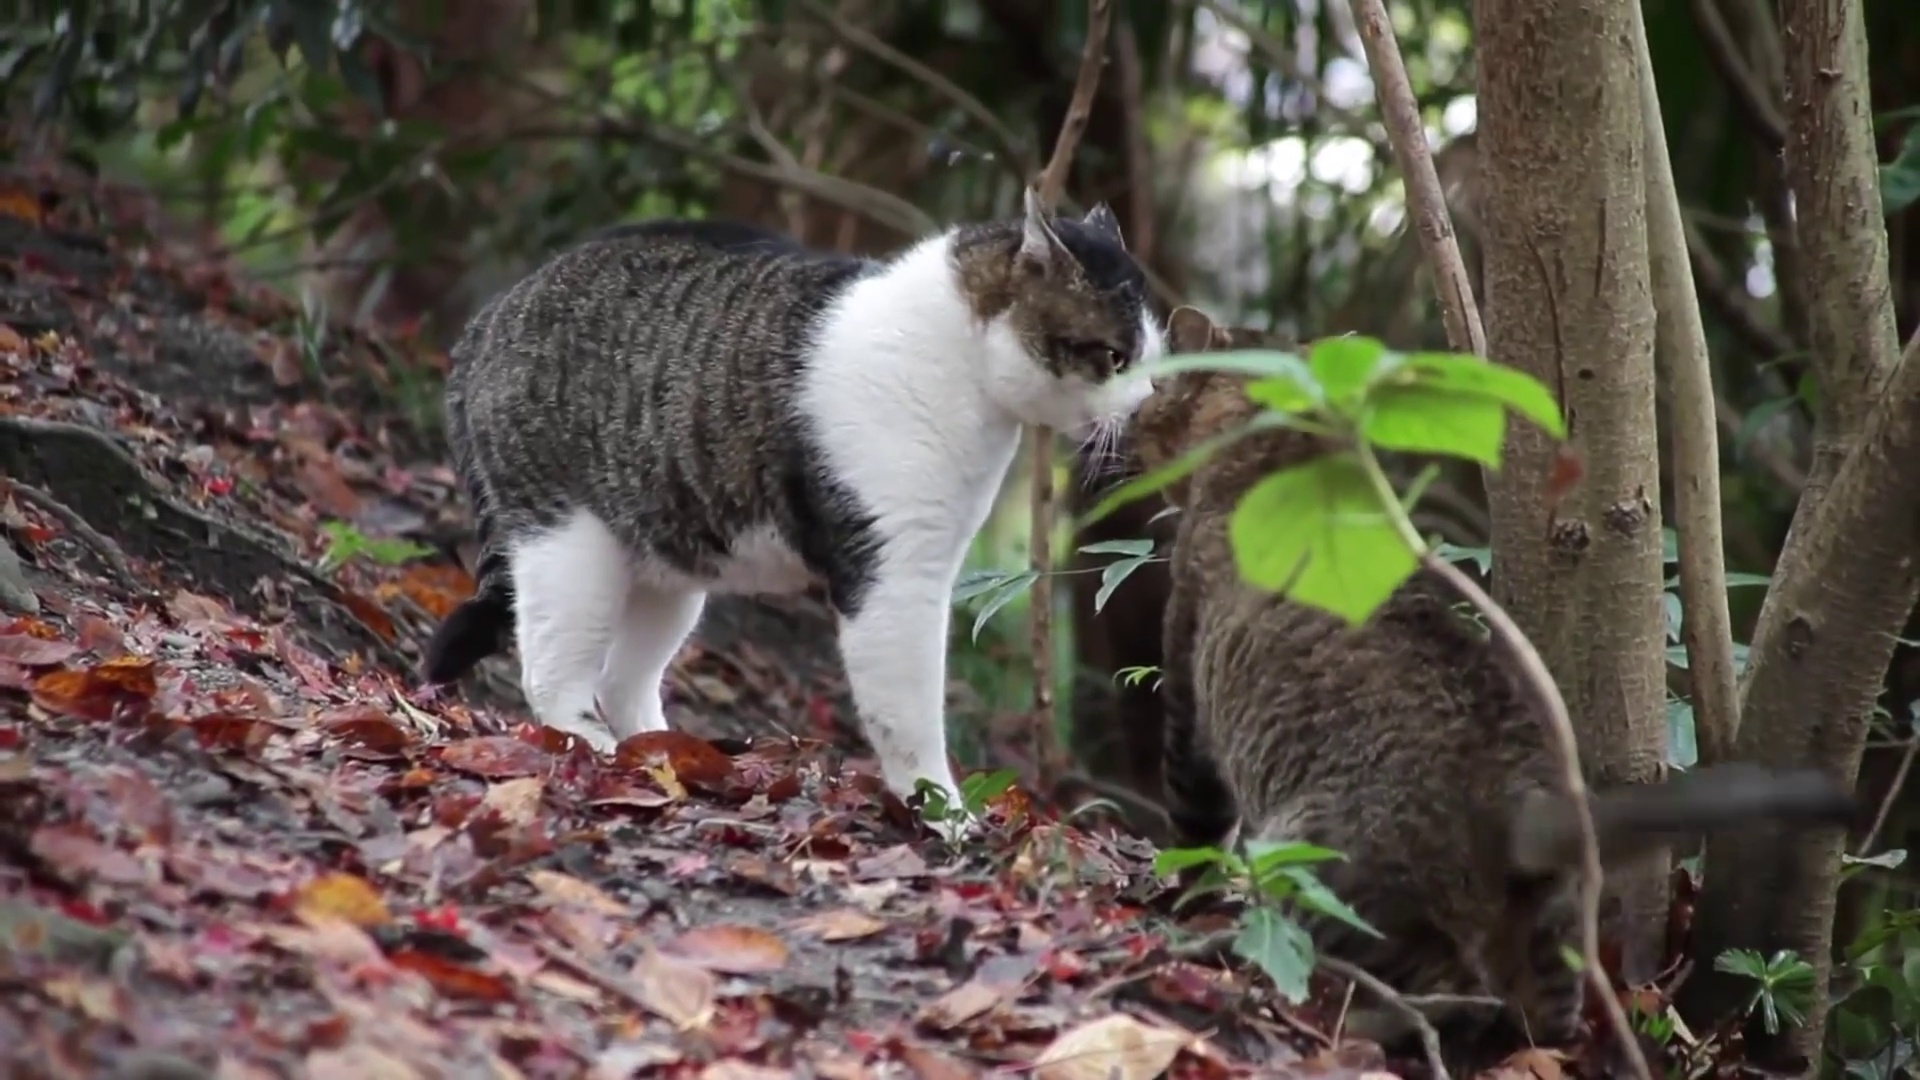black-white: (421, 186, 1167, 843)
pure black: (1134, 306, 1607, 1040)
